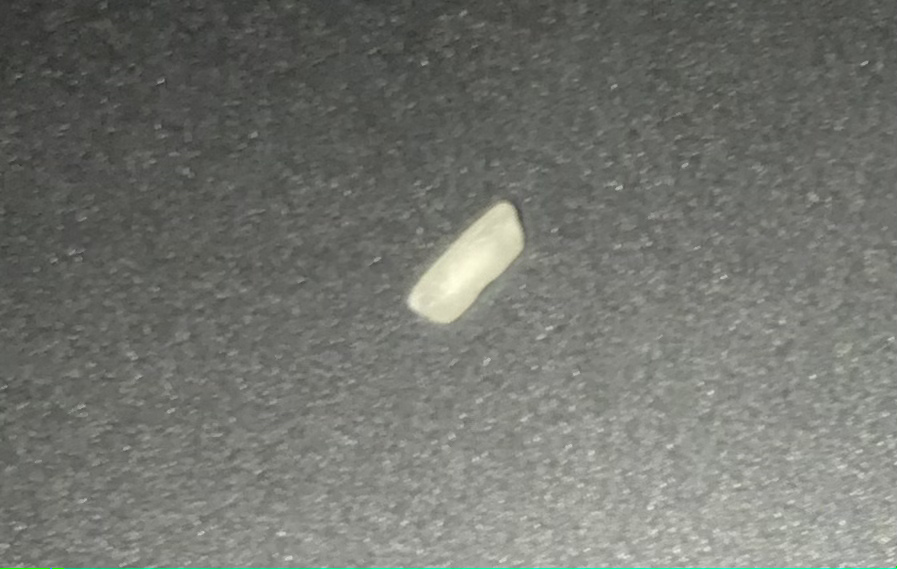Gao Tam Thom: (406, 194, 524, 333)
